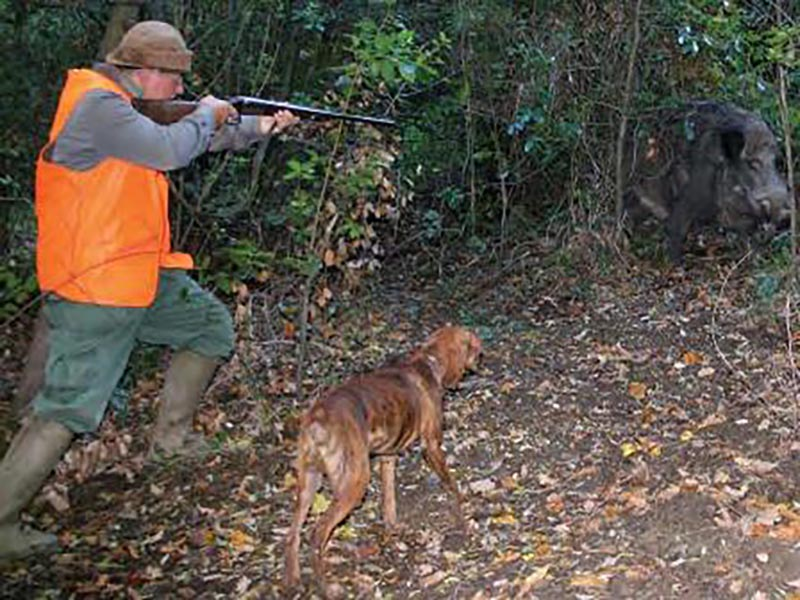cacciatore: (1, 10, 292, 464)
cane da caccia: (261, 316, 492, 576)
cinghiale: (633, 101, 792, 259)
fucile: (126, 83, 399, 131)
